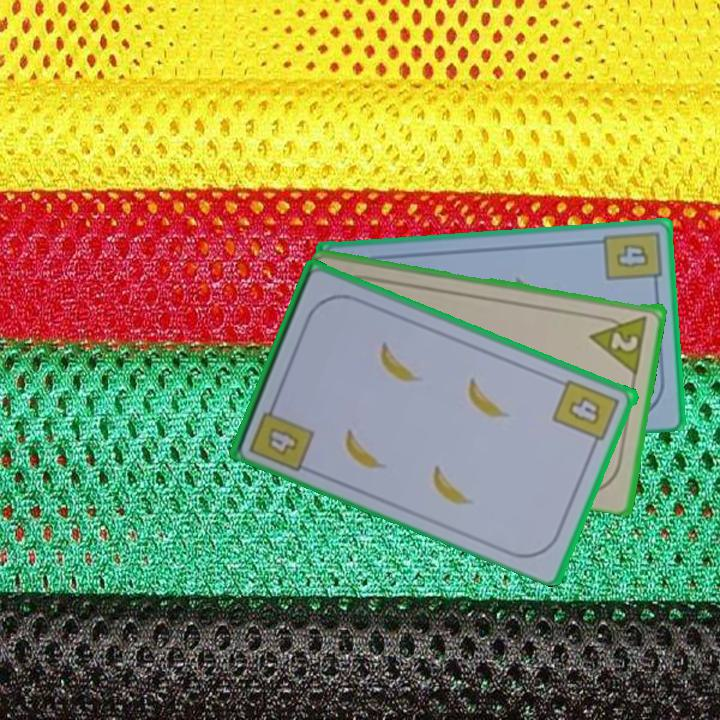2p: (607, 326, 642, 354)
4b: (550, 375, 623, 452), (600, 227, 664, 291), (264, 427, 302, 459)
